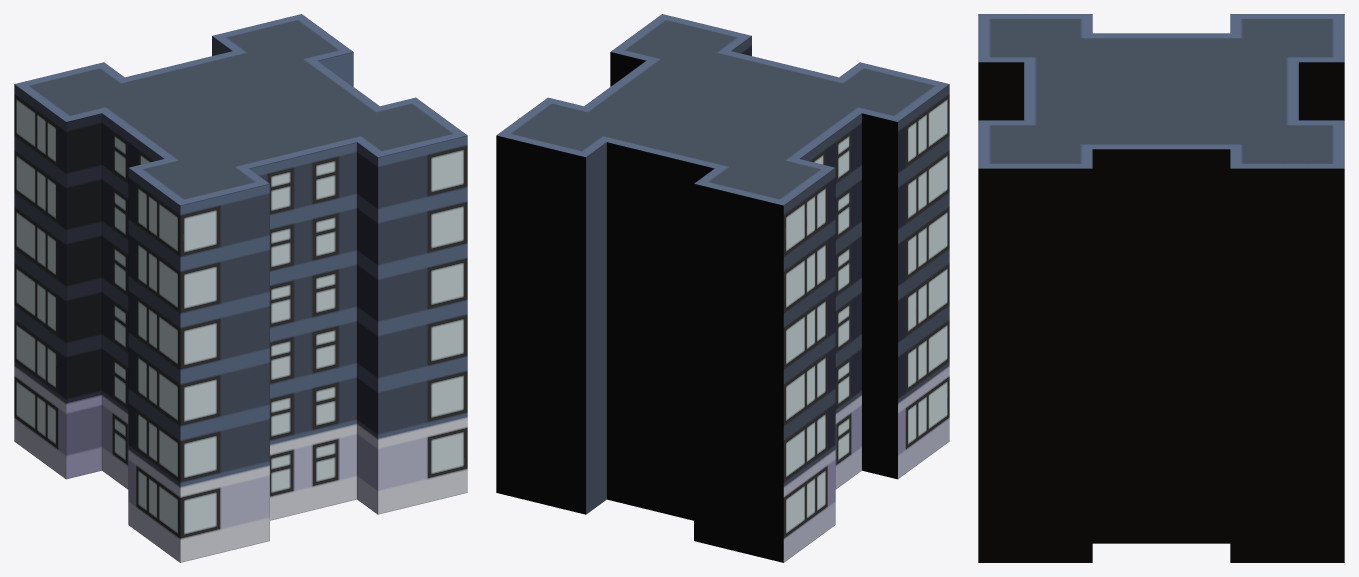
The model's file is apartments.FBX.
3 renders of one model, left to right at view 1: azimuth 30°, elevation 25°; view 2: azimuth 150°, elevation 25°; view 3: azimuth 270°, elevation 25°, orthographic. The views are drawn at different scales.
Visible parts, largest first — view 1: Box001; view 2: Box001; view 3: Box001.
Part boxes in pixels (bbox=[...]): Box001: bbox=[14, 14, 467, 562]; Box001: bbox=[496, 14, 949, 562]; Box001: bbox=[978, 14, 1344, 562].
Bounding box in the file's own units: 128 × 152 × 128.
Materials: 1 (1 with a texture image).
